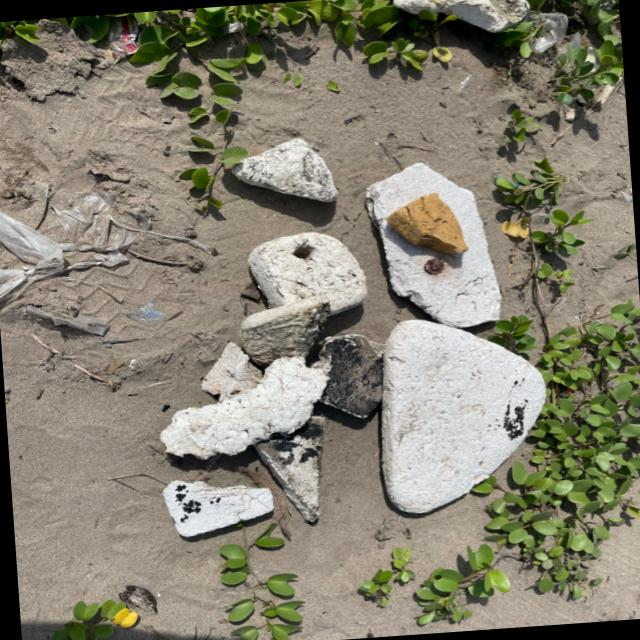xop: (381, 319, 546, 513), (159, 356, 330, 459), (378, 214, 501, 327), (366, 162, 489, 263), (248, 231, 367, 313), (231, 137, 337, 200), (161, 481, 272, 537), (200, 342, 263, 400)
